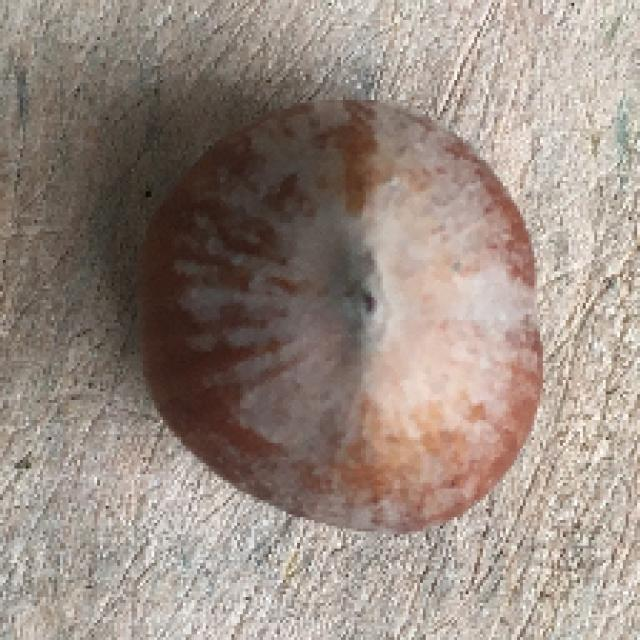qualityHazelnut: (130, 94, 552, 540)
